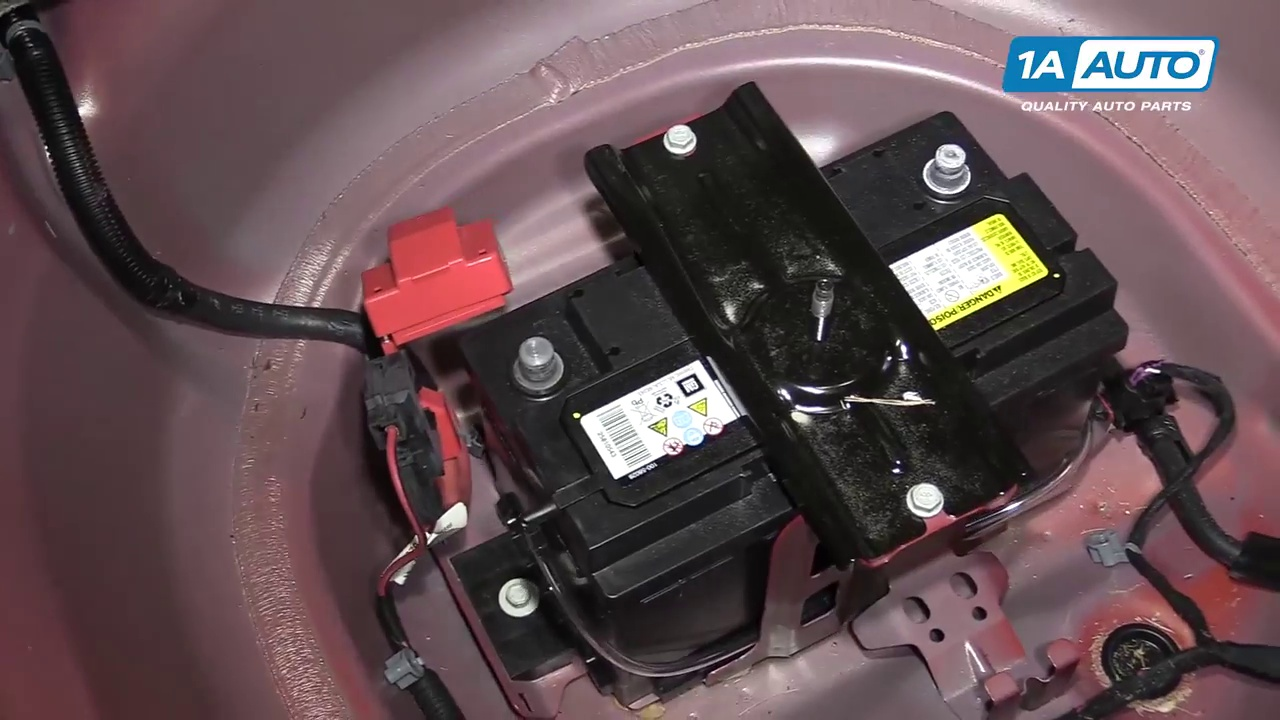battery: (459, 92, 1121, 587)
neg_disconnected: (905, 131, 1002, 215)
pos_disconnected: (359, 216, 576, 416)
